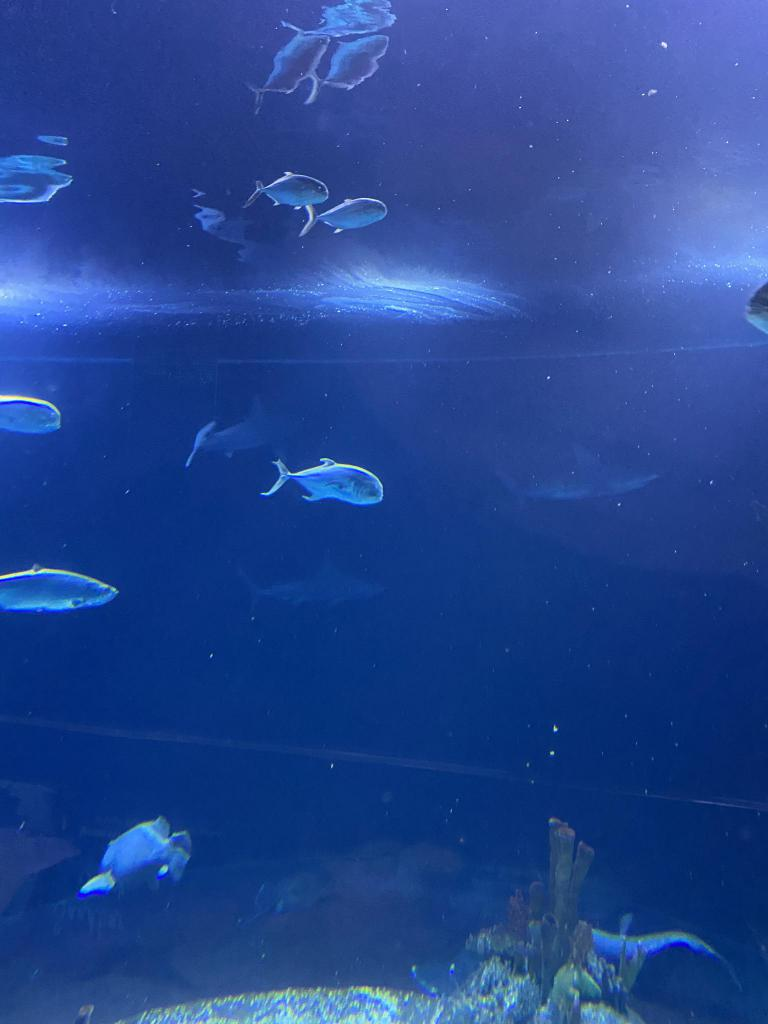fish: (80, 812, 194, 910), (266, 455, 386, 513), (0, 566, 120, 620), (292, 40, 397, 98), (247, 34, 327, 104), (2, 142, 70, 208), (303, 198, 391, 242), (300, 2, 404, 38), (0, 394, 67, 438), (248, 175, 328, 211), (738, 274, 768, 346)
shark: (496, 442, 672, 502), (184, 388, 310, 462), (235, 553, 385, 613)
